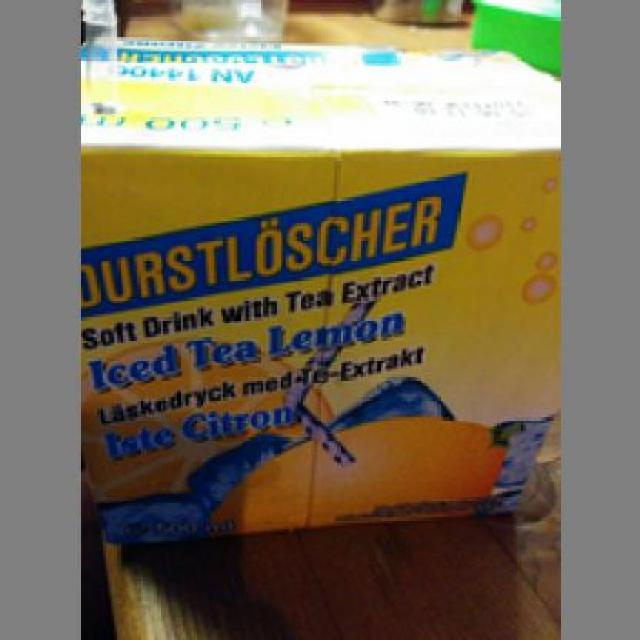Juice: (77, 29, 557, 538)
